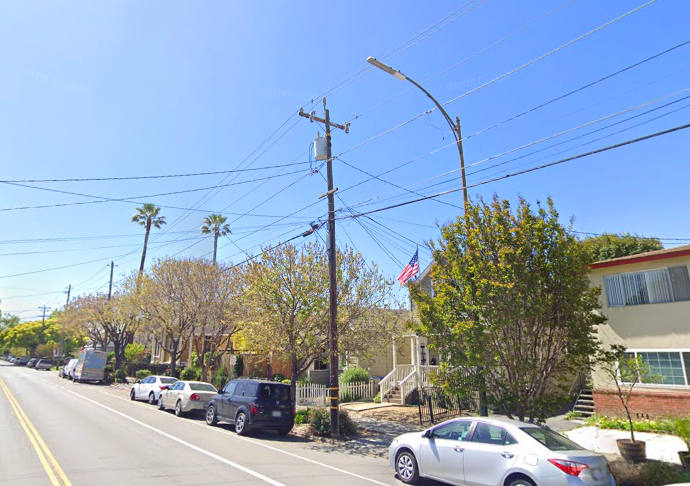tree: (401, 190, 608, 423), (230, 240, 403, 386), (102, 254, 237, 378)
utility_pole: (293, 91, 358, 203)
